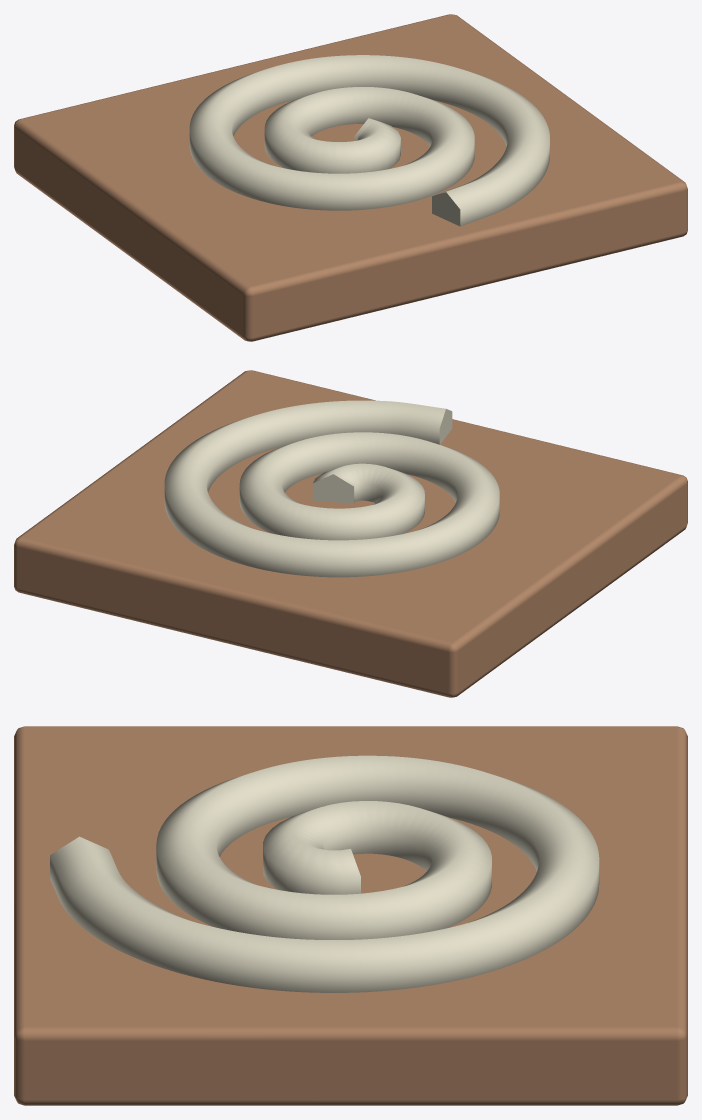
File: prehistoric-expedition-sites-ammonite-impression-f4aa54f3__26111.glb
The picture shows the model from 3 angles, top to bottom: view 1: azimuth 30°, elevation 25°; view 2: azimuth 150°, elevation 25°; view 3: azimuth 270°, elevation 25°; orthographic projection. The views are drawn at different scales.
Parts seen in each view (by area): view 1: ammonite-impression; view 2: ammonite-impression; view 3: ammonite-impression.
Part boxes in pixels (x1,y1,x2,y2): ammonite-impression: (14, 14, 687, 341); ammonite-impression: (14, 370, 687, 697); ammonite-impression: (14, 726, 687, 1105).
Size of the model in its own units: 0.38 by 0.068 by 0.35.
